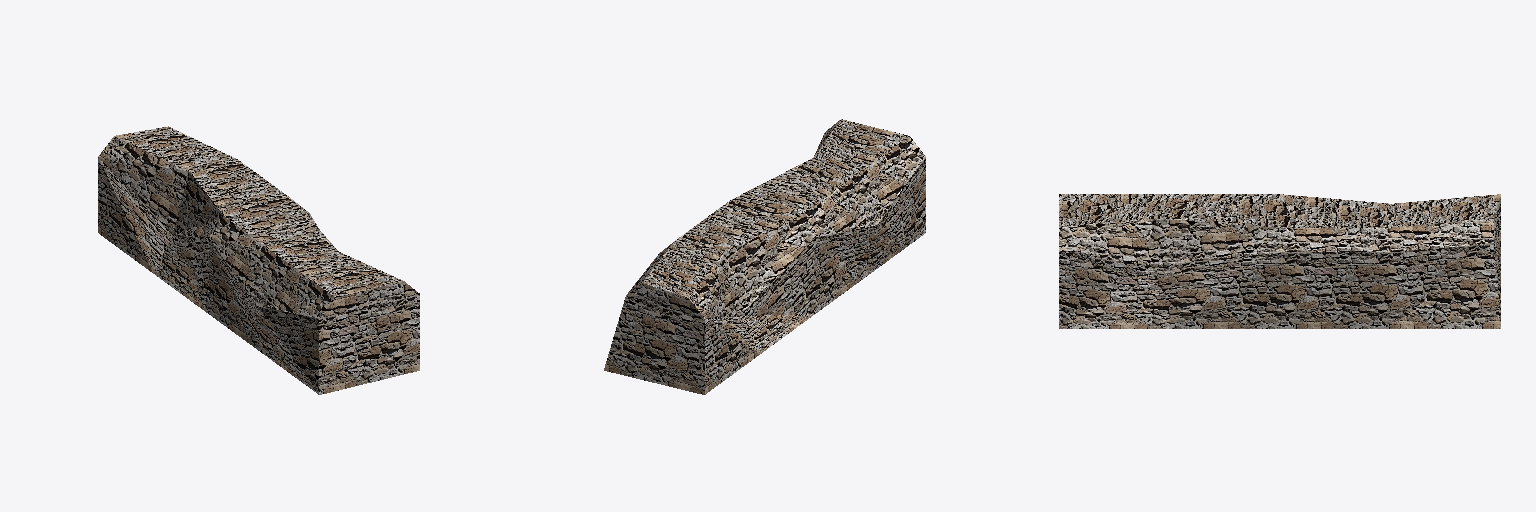
3 views of the same model, side by side, from view 1: azimuth 30°, elevation 25°; view 2: azimuth 150°, elevation 25°; view 3: azimuth 270°, elevation 25° (orthographic).
Visible parts, largest first — view 1: halfHeight; view 2: halfHeight; view 3: halfHeight.
Boxes of the visible parts, x1,y1,x2,y2 form: halfHeight: [98, 126, 419, 394]; halfHeight: [604, 119, 925, 394]; halfHeight: [1059, 194, 1500, 328].
Bounding box in the file's own units: 1.33 × 1.11 × 4.75.
1 materials, 1 textured.